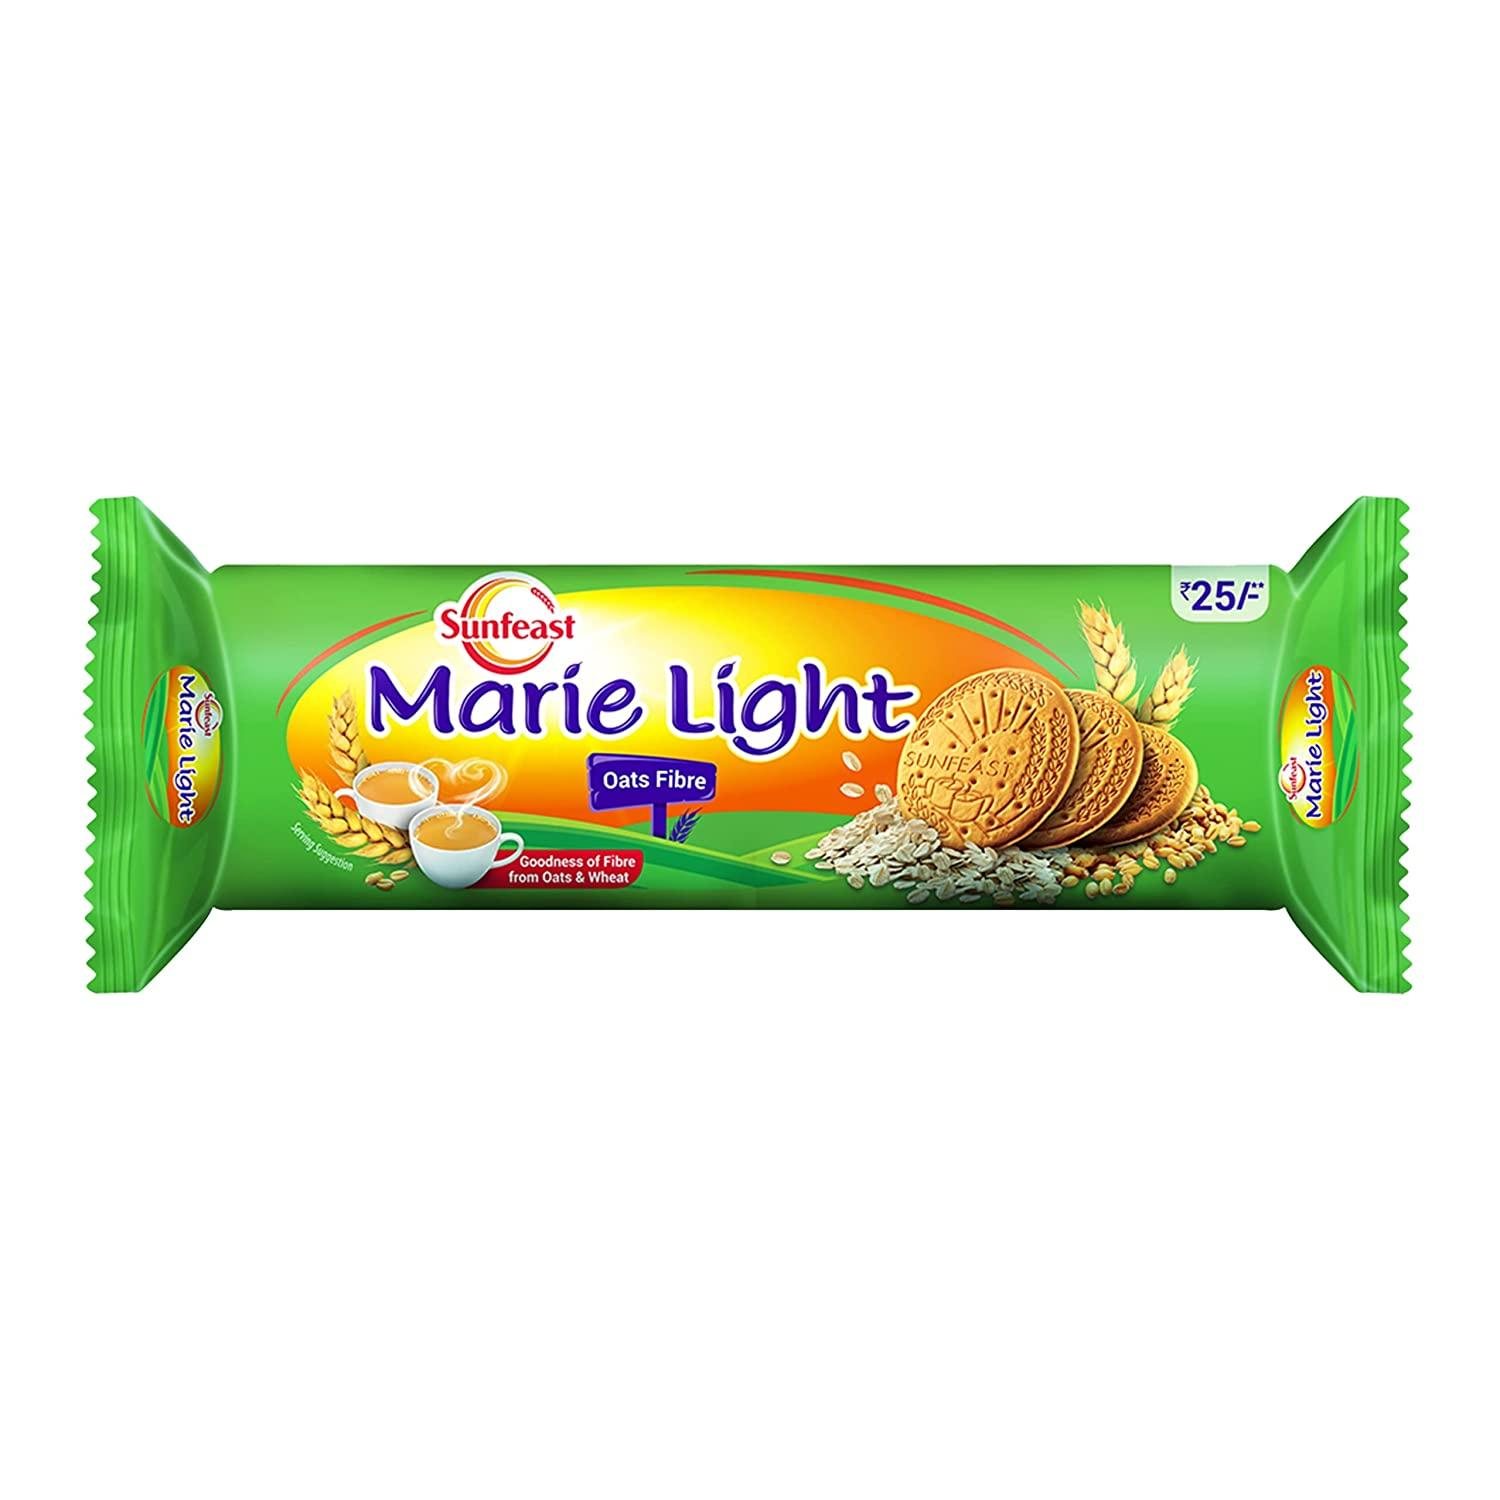MarieLight: (81, 489, 1413, 1005)
